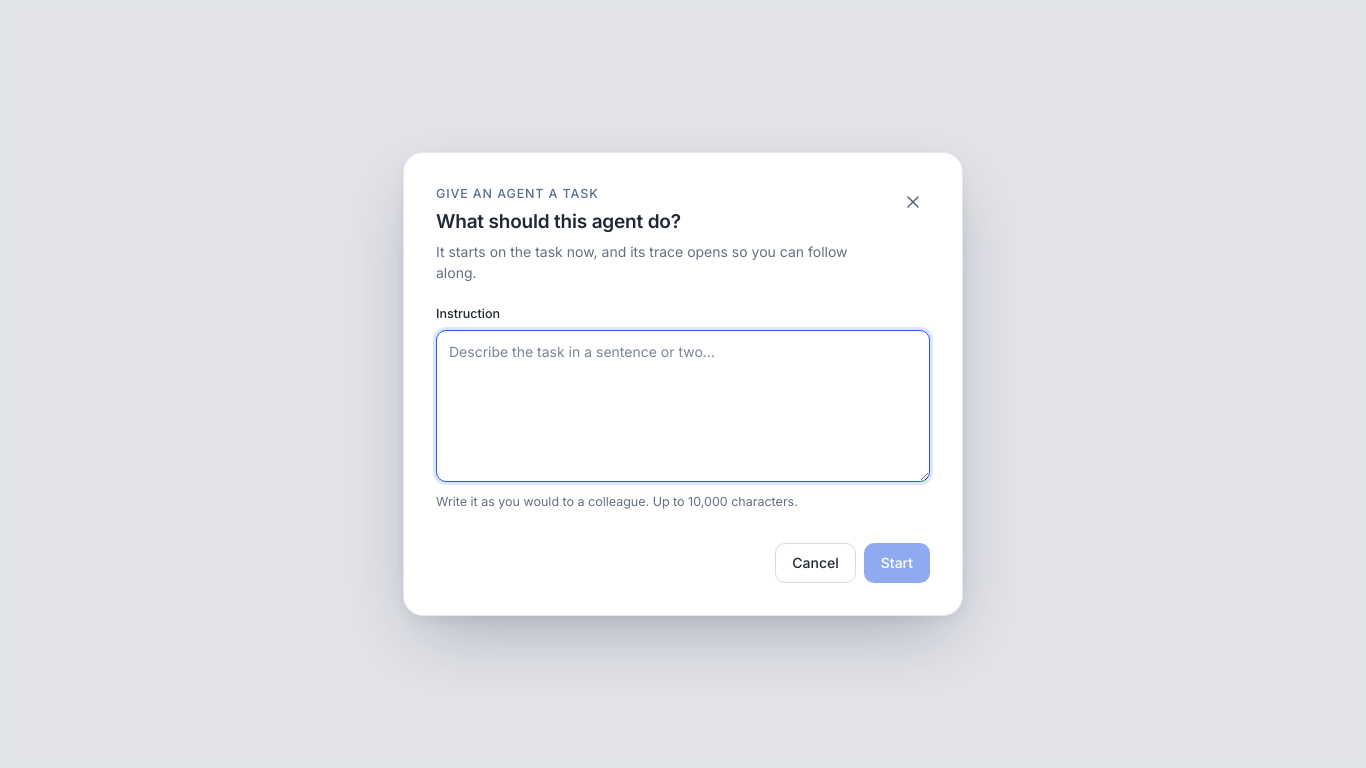
TaskDialog › still saves, but stays on the page, when the dialog is dismissed before the save returns
The image size is (1366, 768).
Type "Check the stock levels" into the text box labelled "Instruction" at point(683, 406), box left=436, top=330, right=930, bottom=482
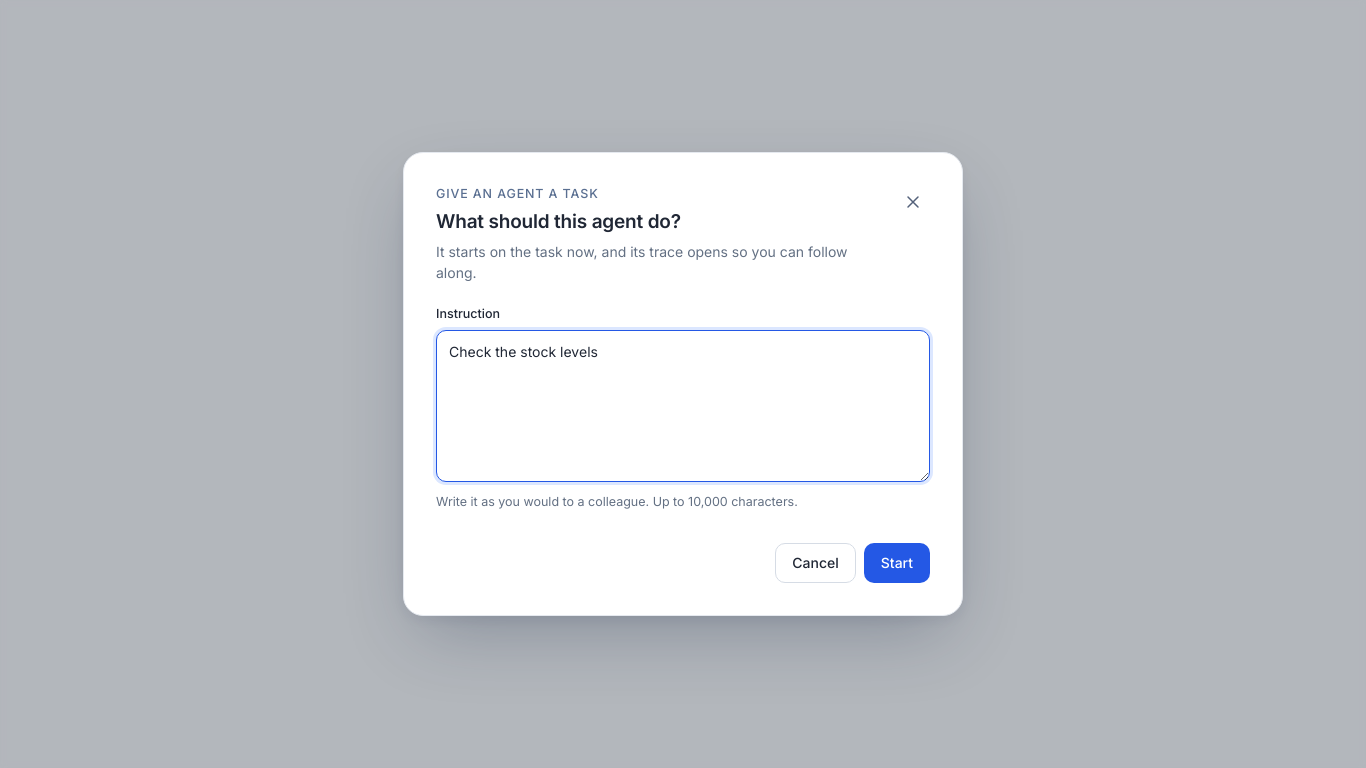
Click the button "Start" at point(897, 563), box left=864, top=543, right=930, bottom=583
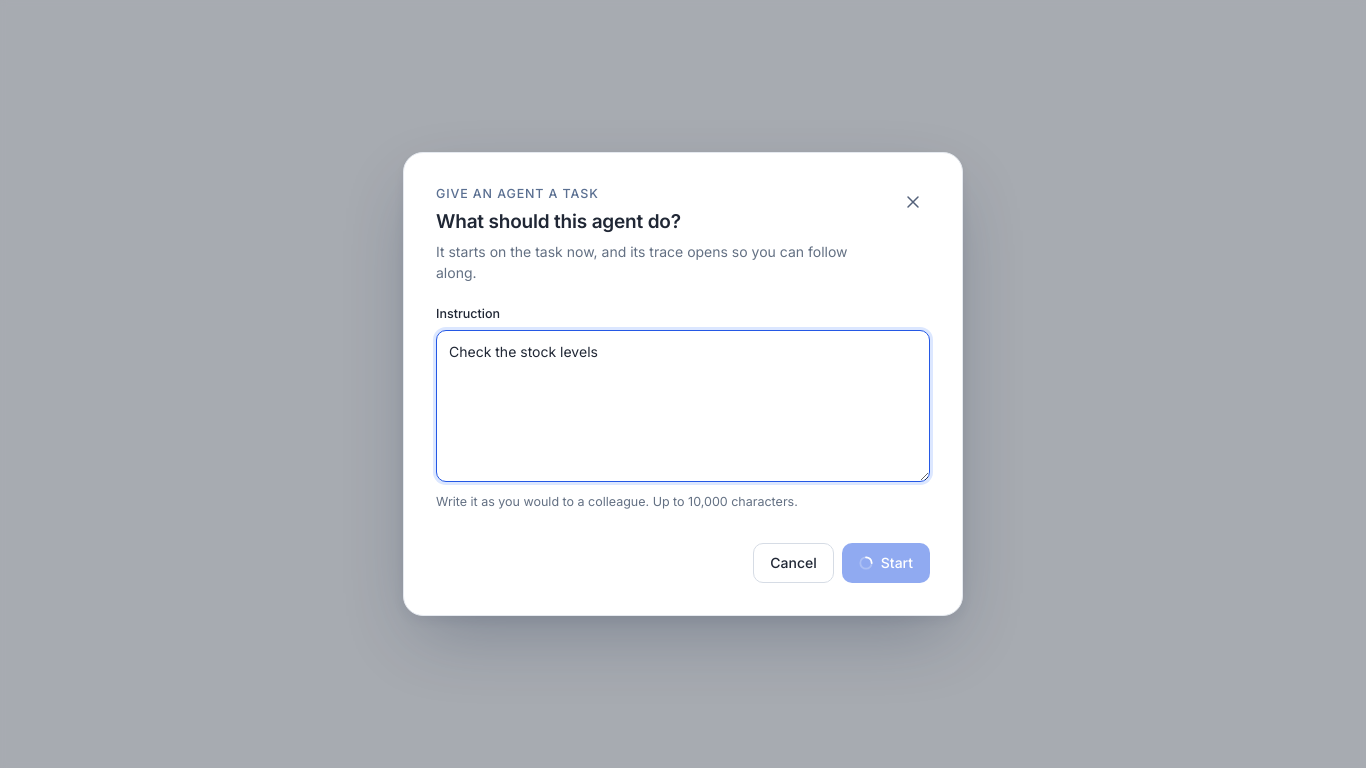
Click the button "Cancel" at point(794, 563), box left=753, top=543, right=834, bottom=583
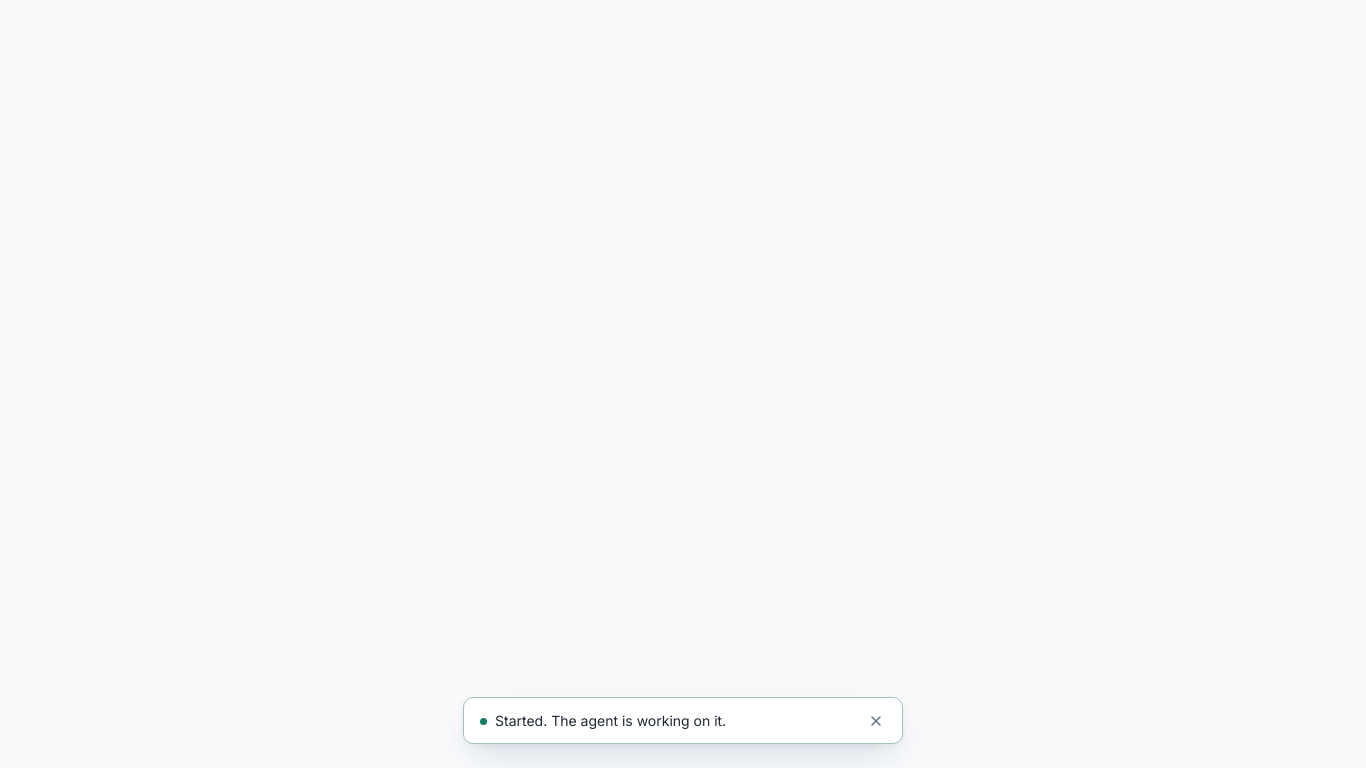
Result: the text "Started. The agent is working on it." is shown at left=480, top=710, right=726, bottom=731
